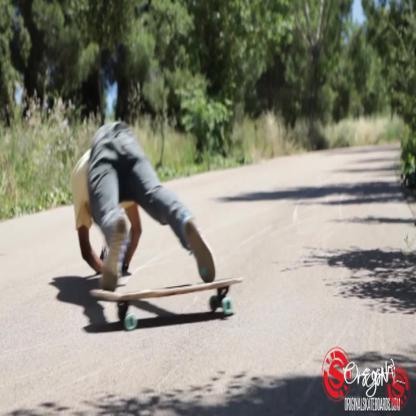Fall_Down: (69, 118, 219, 298)
